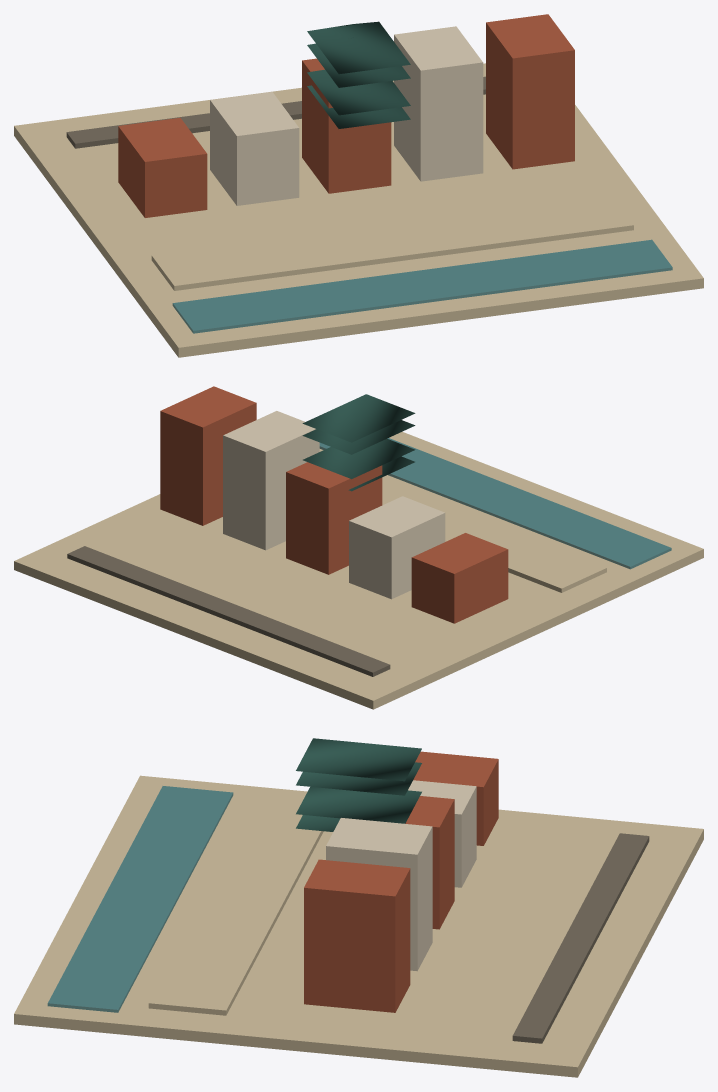
Rendered from model-medium.glb.
3 views of the same model, one above another, from view 1: azimuth 30°, elevation 25°; view 2: azimuth 150°, elevation 25°; view 3: azimuth 270°, elevation 25° (orthographic). The views are drawn at different scales.
Visible parts, largest first — view 1: context_site_plinth, street_public_axis, context_water_edge, street_facade_4, street_facade_3, street_facade_1, street_facade_0, street_facade_2, street_roof_3, street_roof_1, front_scale_strip, street_roof_2 (+1 smaller); view 2: context_site_plinth, context_water_edge, street_facade_3, street_facade_4, street_facade_2, street_facade_1, street_facade_0, front_scale_strip, street_public_axis, street_roof_3, street_roof_1, street_roof_2; view 3: context_site_plinth, street_public_axis, context_water_edge, street_facade_4, front_scale_strip, street_facade_3, street_roof_3, street_facade_0, street_facade_2, street_roof_1, street_facade_1, street_roof_2 (+1 smaller).
Part boxes in pixels (x1,y1,x2,y2): context_site_plinth: (14, 63, 703, 357); street_public_axis: (151, 194, 633, 290); context_water_edge: (172, 239, 672, 333); street_facade_4: (486, 14, 574, 169); street_facade_3: (394, 26, 483, 181); street_facade_1: (210, 92, 299, 205); street_facade_0: (118, 117, 207, 217); street_facade_2: (302, 58, 391, 193); street_roof_3: (307, 21, 410, 74); street_roof_1: (307, 69, 410, 115); front_scale_strip: (66, 76, 485, 148); street_roof_2: (307, 37, 410, 87); context_site_plinth: (14, 431, 703, 709); context_water_edge: (319, 438, 671, 569); street_facade_3: (223, 411, 319, 550); street_facade_4: (160, 386, 256, 525); street_facade_2: (286, 462, 382, 574); street_facade_1: (349, 496, 445, 599); street_facade_0: (411, 533, 508, 623); front_scale_strip: (67, 546, 390, 676); street_public_axis: (382, 480, 606, 592); street_roof_3: (302, 394, 415, 442); street_roof_1: (303, 439, 415, 479); street_roof_2: (302, 420, 415, 454); context_site_plinth: (14, 775, 703, 1077); street_public_axis: (148, 794, 323, 1015); context_water_edge: (47, 786, 233, 1012); street_facade_4: (304, 859, 410, 1012); front_scale_strip: (512, 833, 649, 1043); street_facade_3: (326, 818, 432, 971); street_roof_3: (296, 738, 421, 781); street_facade_0: (413, 751, 498, 845); street_facade_2: (405, 796, 454, 929); street_roof_1: (296, 787, 421, 823); street_facade_1: (408, 780, 476, 887); street_roof_2: (296, 762, 421, 795).
Size of the model in its own units: 9.55 by 2.89 by 9.55.
